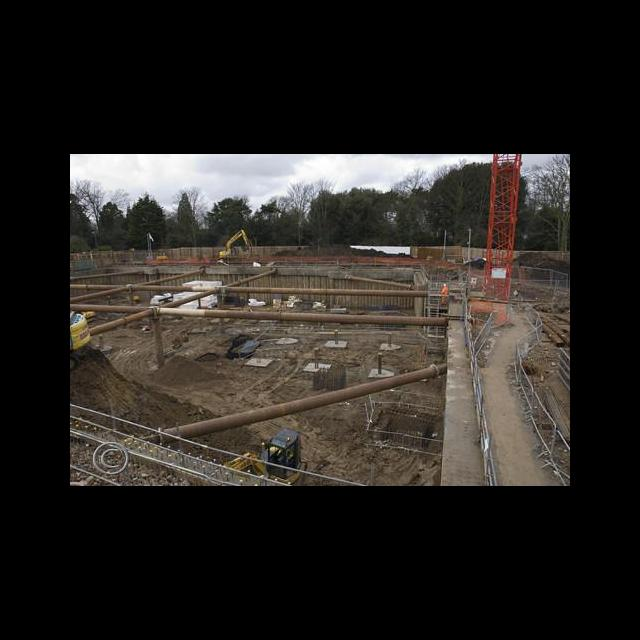Excavator: (220, 427, 308, 485), (70, 311, 93, 369), (220, 229, 251, 260)
Hardhat: (443, 284, 447, 286)
Safety Vest: (441, 283, 449, 307), (444, 287, 448, 295)
wheel loader: (156, 249, 168, 261)
